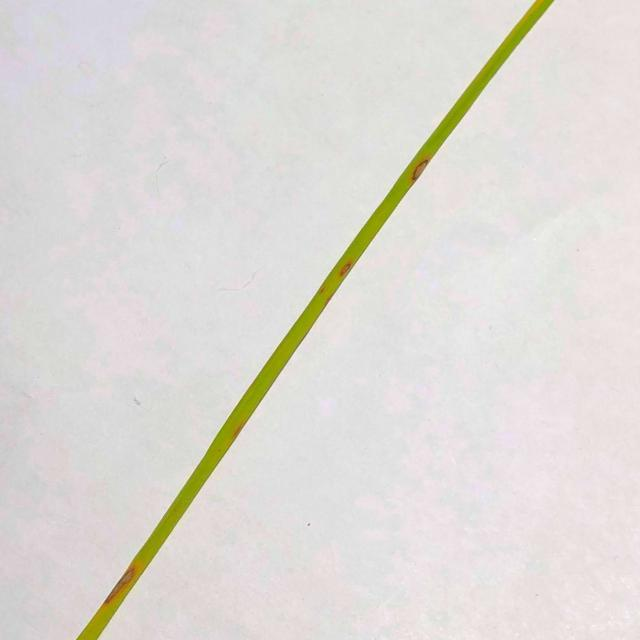Blast: (114, 571, 141, 595), (412, 163, 424, 181), (338, 264, 350, 276)
